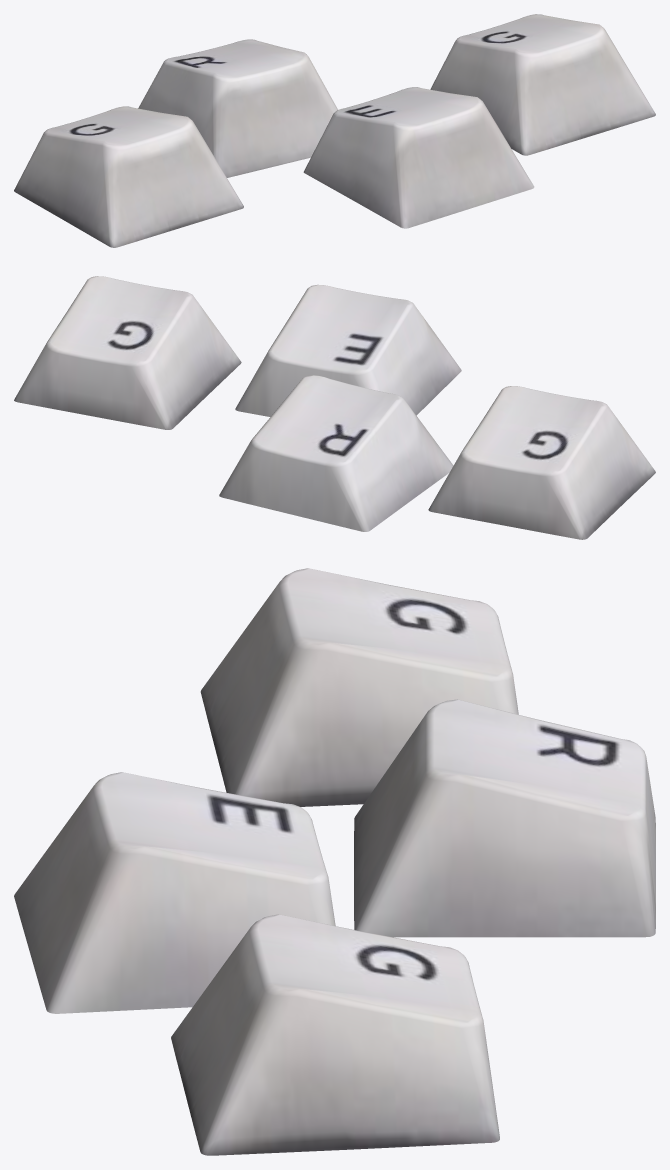
File: keys_greg.glb
The picture shows the model from 3 angles, top to bottom: view 1: azimuth 30°, elevation 25°; view 2: azimuth 150°, elevation 25°; view 3: azimuth 270°, elevation 25°; orthographic projection. The views are drawn at different scales.
Parts seen in each view (by area): view 1: Plane.007; view 2: Plane.007; view 3: Plane.007.
Boxes of the visible parts, box(x1,y1,x2,y2) form: Plane.007: box(14, 14, 655, 247); Plane.007: box(14, 276, 655, 539); Plane.007: box(14, 568, 655, 1155).
Bounding box in the file's own units: 13.1 × 1.76 × 7.39.
Materials: 1 (1 with a texture image).
